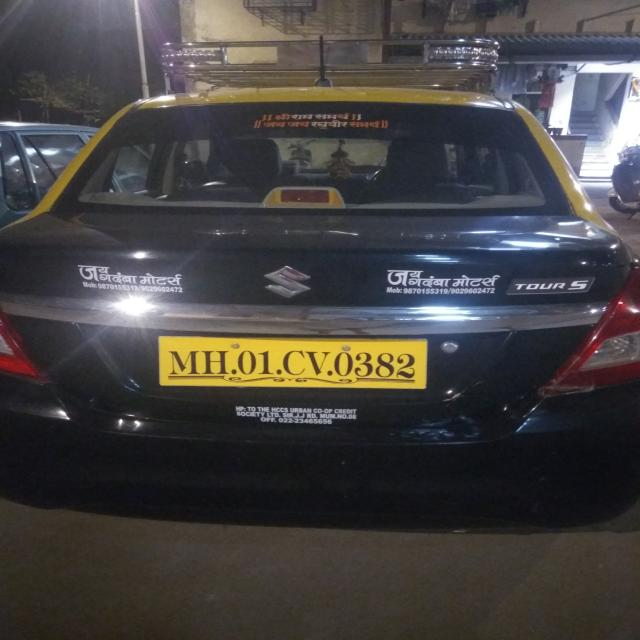Number-Plate: (166, 337, 426, 384)
